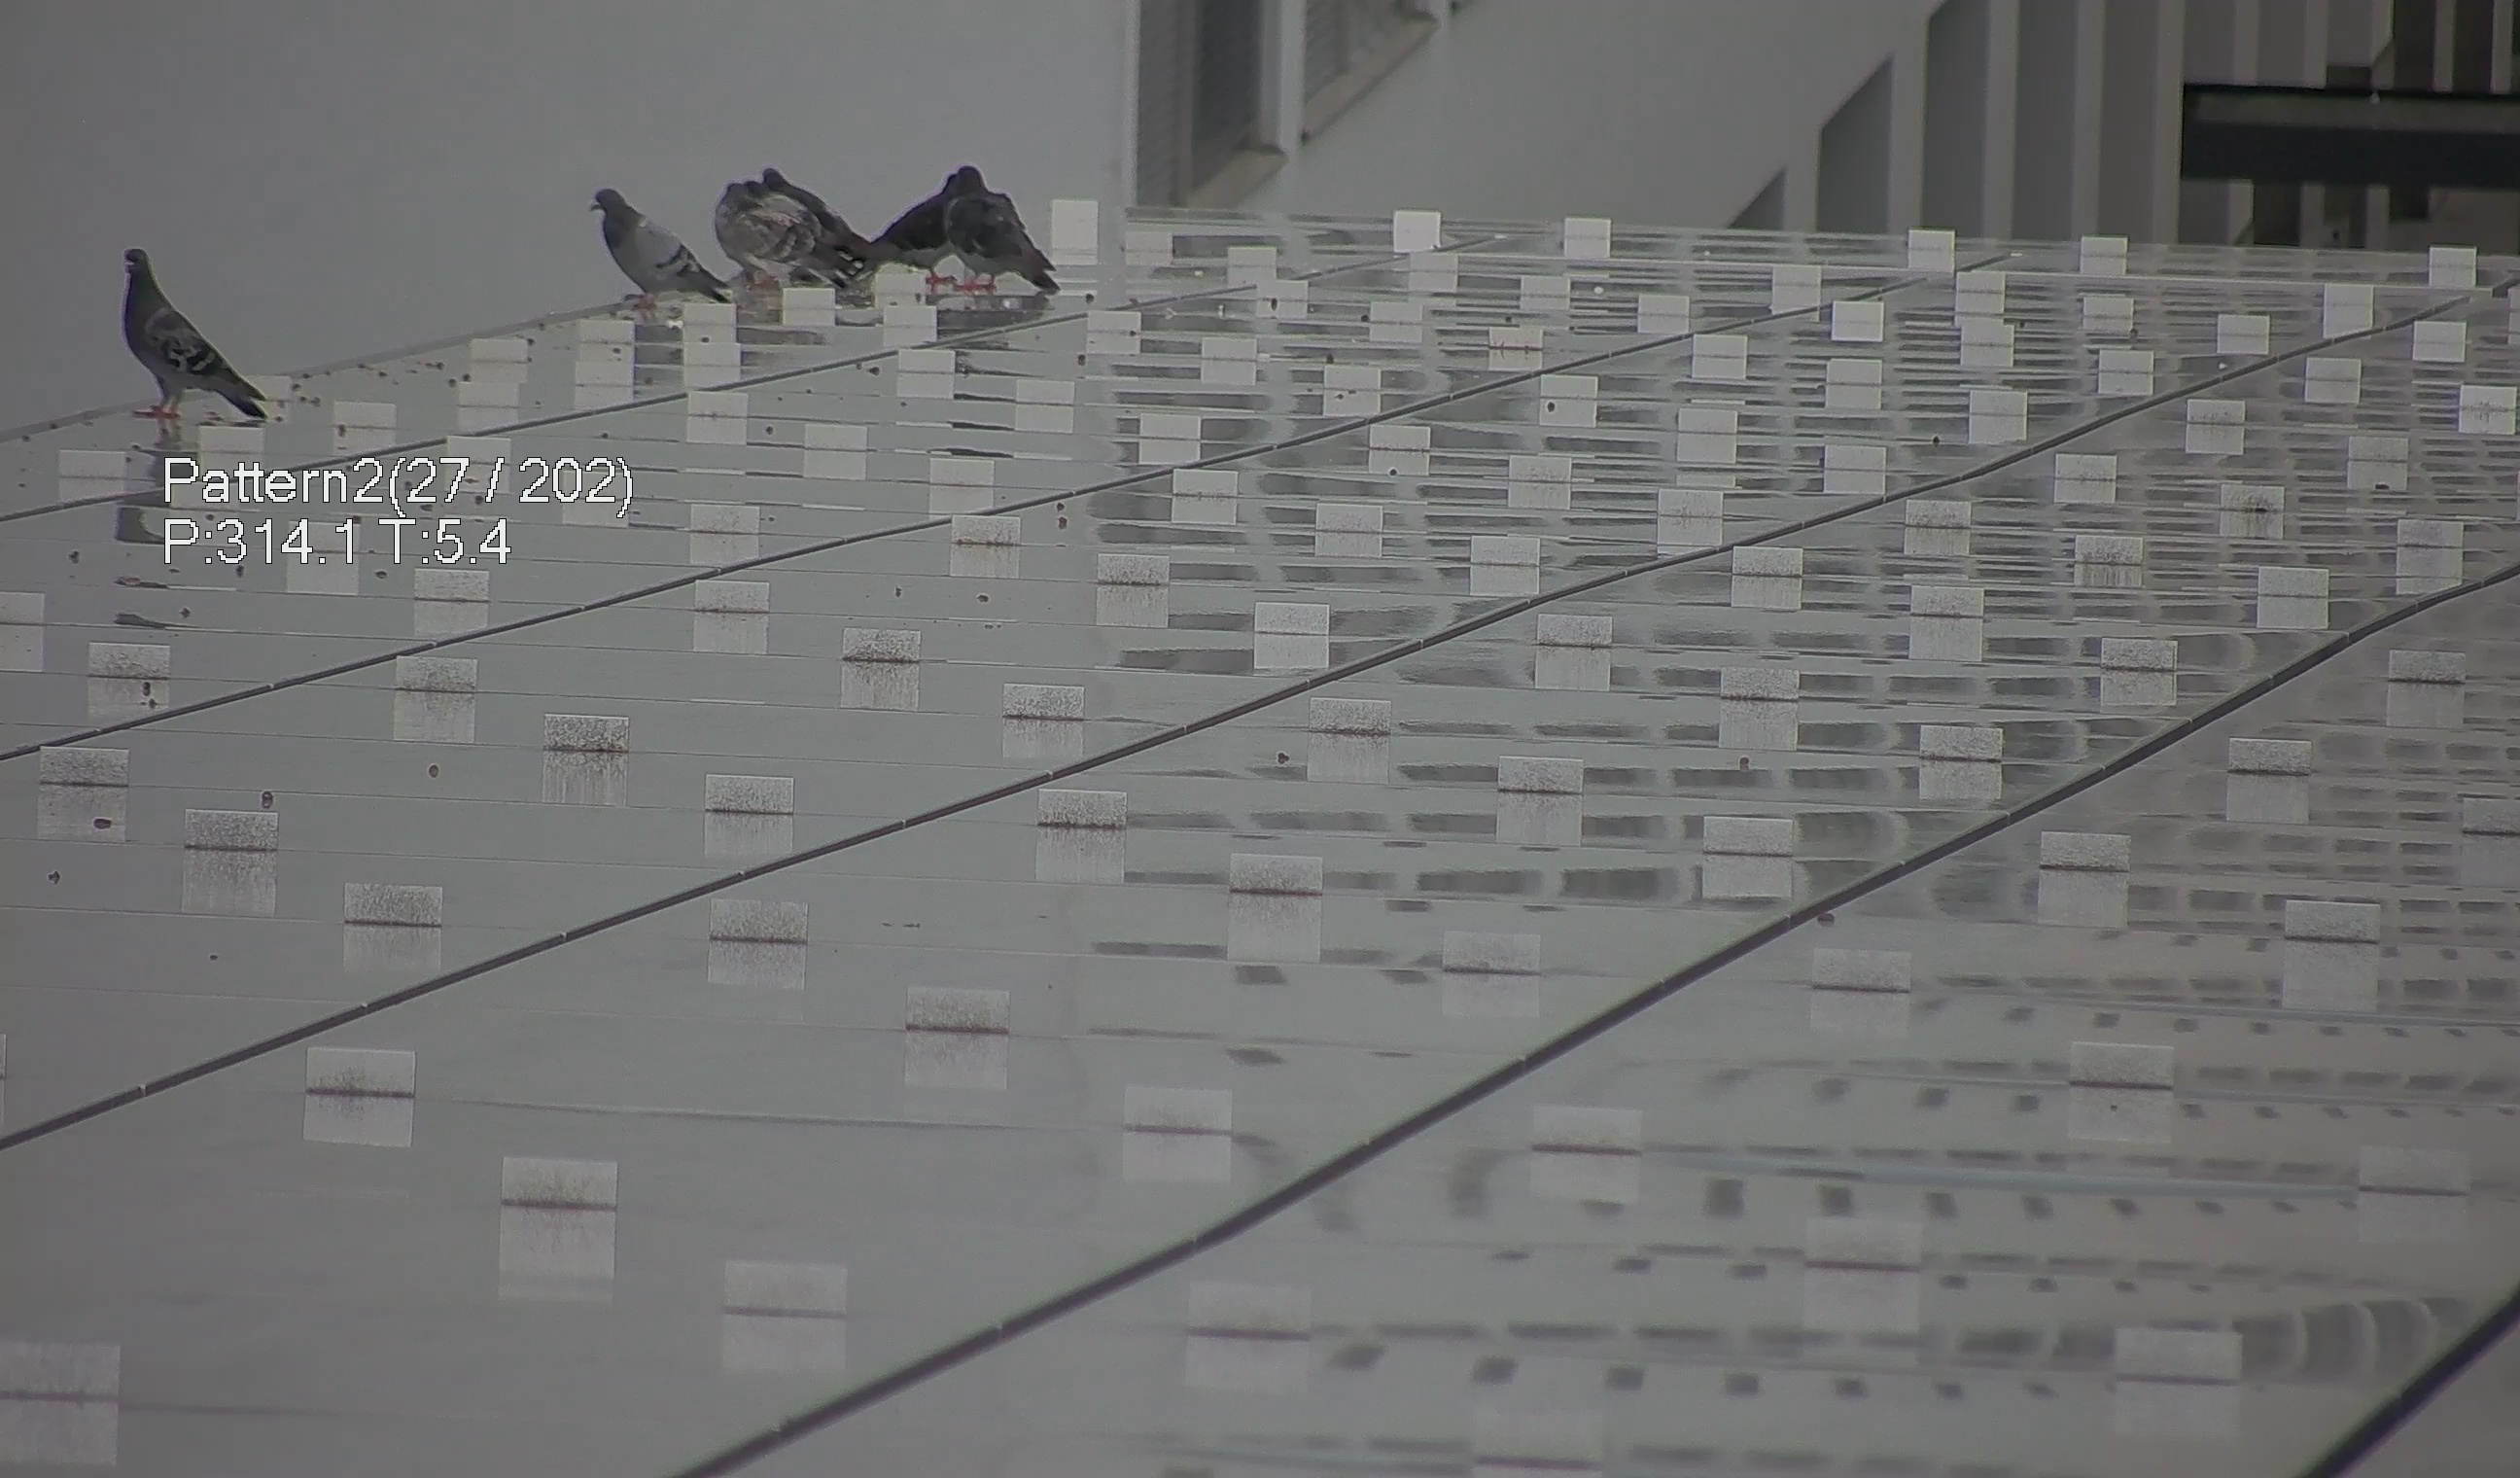Pigeon: (106, 238, 276, 438), (702, 155, 879, 299), (570, 172, 728, 308), (932, 157, 1053, 289), (856, 162, 972, 280)
